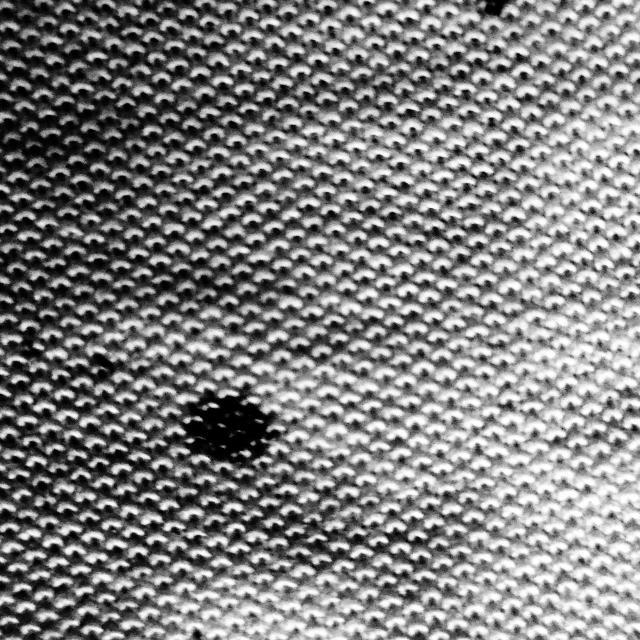Color_defect: (169, 386, 278, 463)
